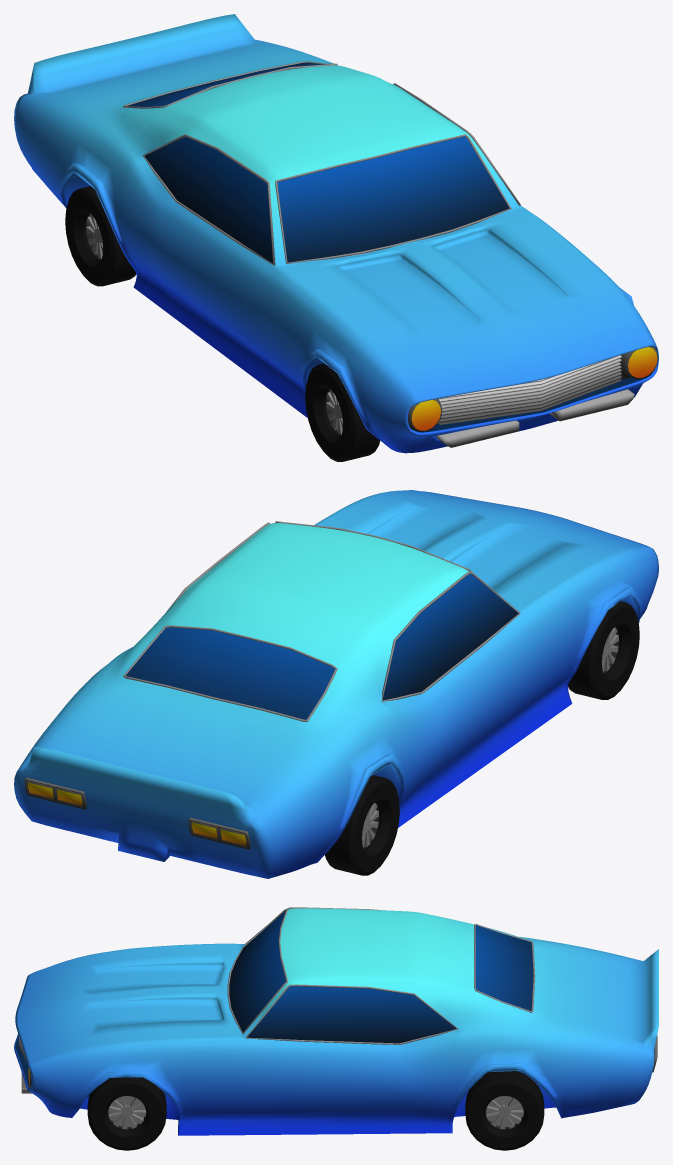
File: araba2.fbx
The picture shows the model from 3 angles, top to bottom: view 1: azimuth 30°, elevation 25°; view 2: azimuth 150°, elevation 25°; view 3: azimuth 270°, elevation 25°; orthographic projection. The views are drawn at different scales.
Parts seen in each view (by area): view 1: araba2, ön lastik.002, ön lastik.003; view 2: araba2, ön lastik.003, ön lastik.002; view 3: araba2, ön lastik.003, ön lastik.002.
Part boxes in pixels (box(x1,y1,x2,y2)): araba2: box(14, 14, 658, 453); ön lastik.002: box(305, 363, 380, 461); ön lastik.003: box(65, 186, 136, 286); araba2: box(14, 490, 658, 878); ön lastik.003: box(325, 775, 399, 875); ön lastik.002: box(568, 601, 639, 699); araba2: box(14, 907, 658, 1135); ön lastik.003: box(465, 1071, 544, 1150); ön lastik.002: box(87, 1077, 166, 1150).
Size of the model in its own units: 2.51 by 1.62 by 6.01.
3 materials, 1 textured.
